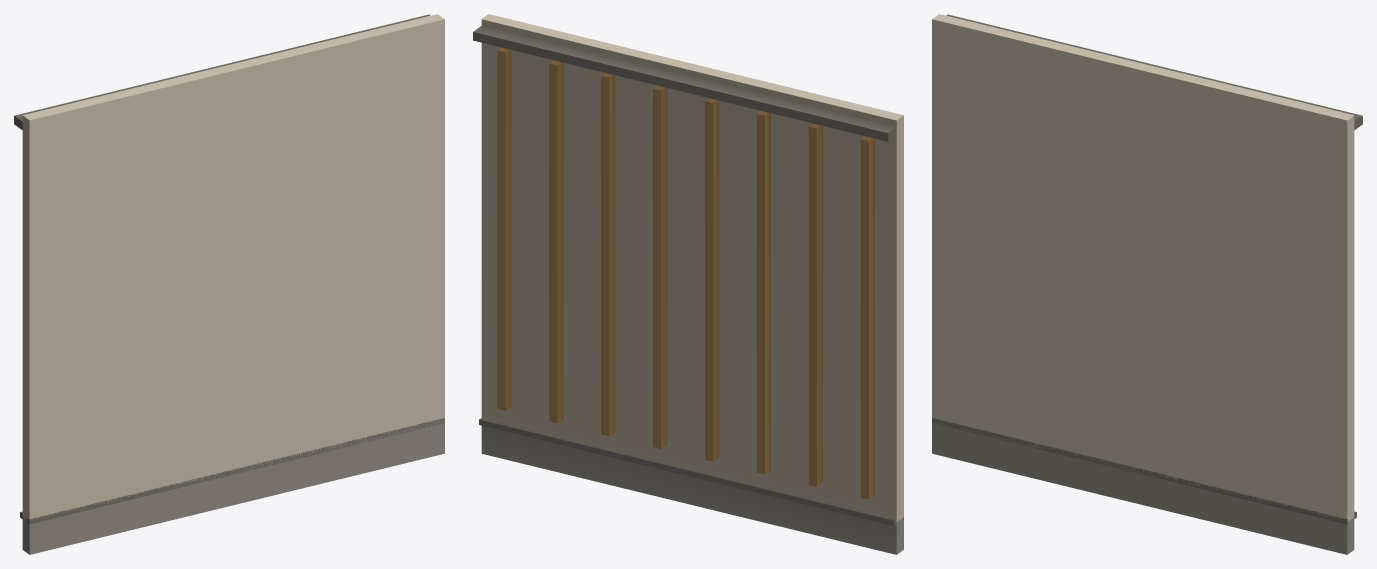
The model's file is facade_panel_02.glb.
3 views of the same model, side by side, from view 1: azimuth 30°, elevation 25°; view 2: azimuth 150°, elevation 25°; view 3: azimuth 330°, elevation 25° (orthographic).
Parts seen in each view (by area): view 1: facade_panel_02_mesh; view 2: facade_panel_02_mesh; view 3: facade_panel_02_mesh.
Boxes of the visible parts, <box> form: facade_panel_02_mesh: <box>14,14,444,554</box>; facade_panel_02_mesh: <box>473,14,903,554</box>; facade_panel_02_mesh: <box>932,14,1362,554</box>.
Bounding box in the file's own units: 4 × 4 × 0.2598.
1 material, 1 textured.
